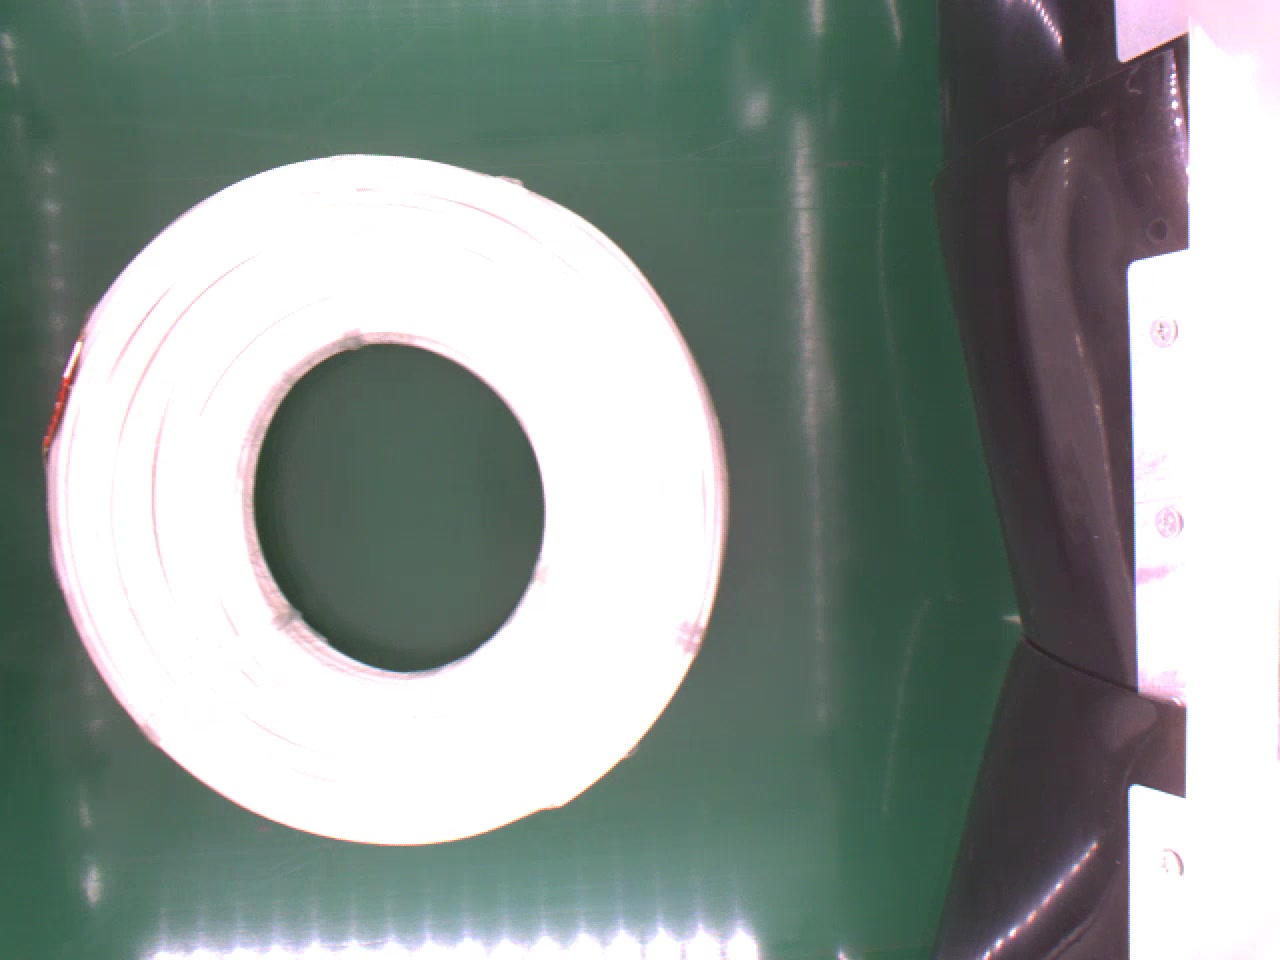white: (36, 145, 734, 851)
